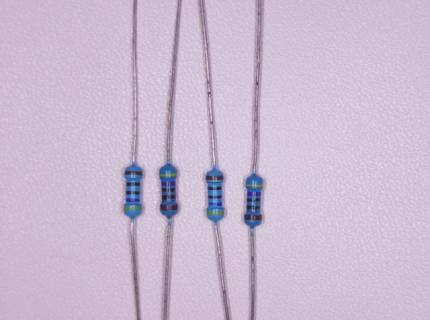Black band: (161, 188, 176, 193), (126, 190, 140, 195), (162, 195, 176, 200), (126, 182, 141, 186), (246, 205, 261, 209), (208, 195, 222, 199), (247, 198, 261, 202), (208, 187, 222, 190)
Brown band: (244, 214, 262, 221), (160, 204, 178, 210), (205, 175, 224, 180), (124, 171, 142, 175)
Violet band: (247, 191, 262, 196), (208, 202, 223, 207), (161, 182, 176, 186), (126, 198, 141, 202)
Yellow band: (123, 207, 142, 211), (159, 173, 178, 177), (206, 211, 224, 215), (245, 183, 263, 187)
